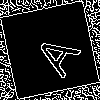A: (25, 25, 82, 79)
